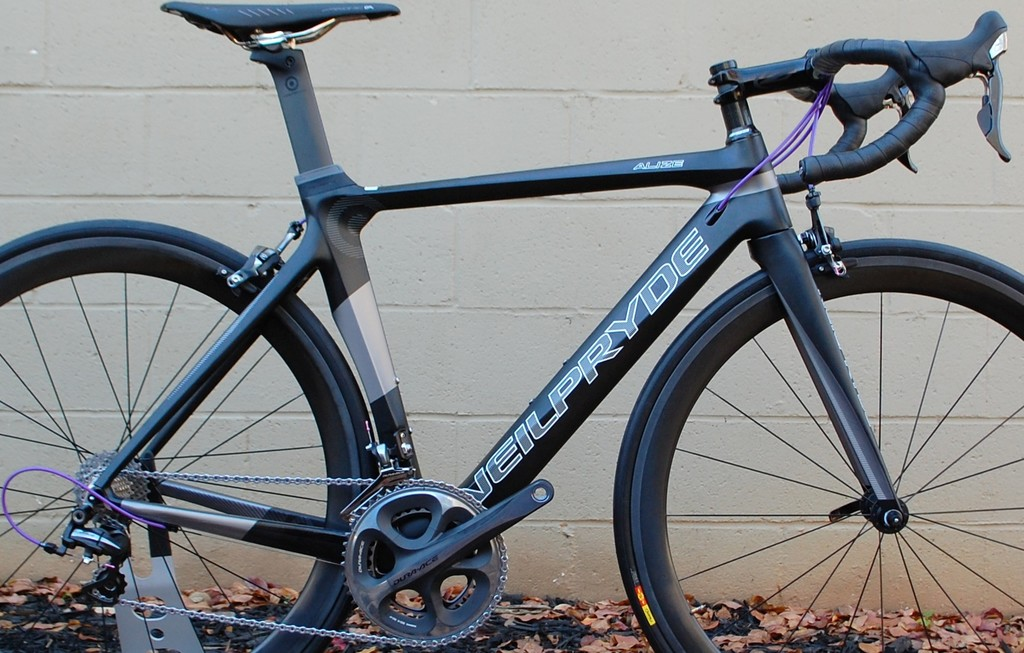Bike: (6, 4, 1020, 648)
